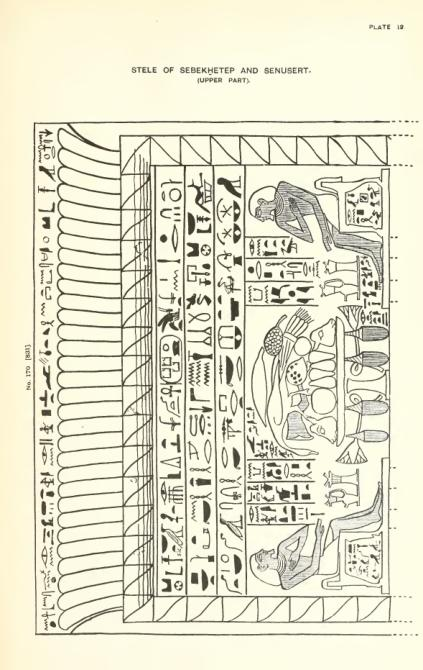circle: (159, 334, 186, 386)
